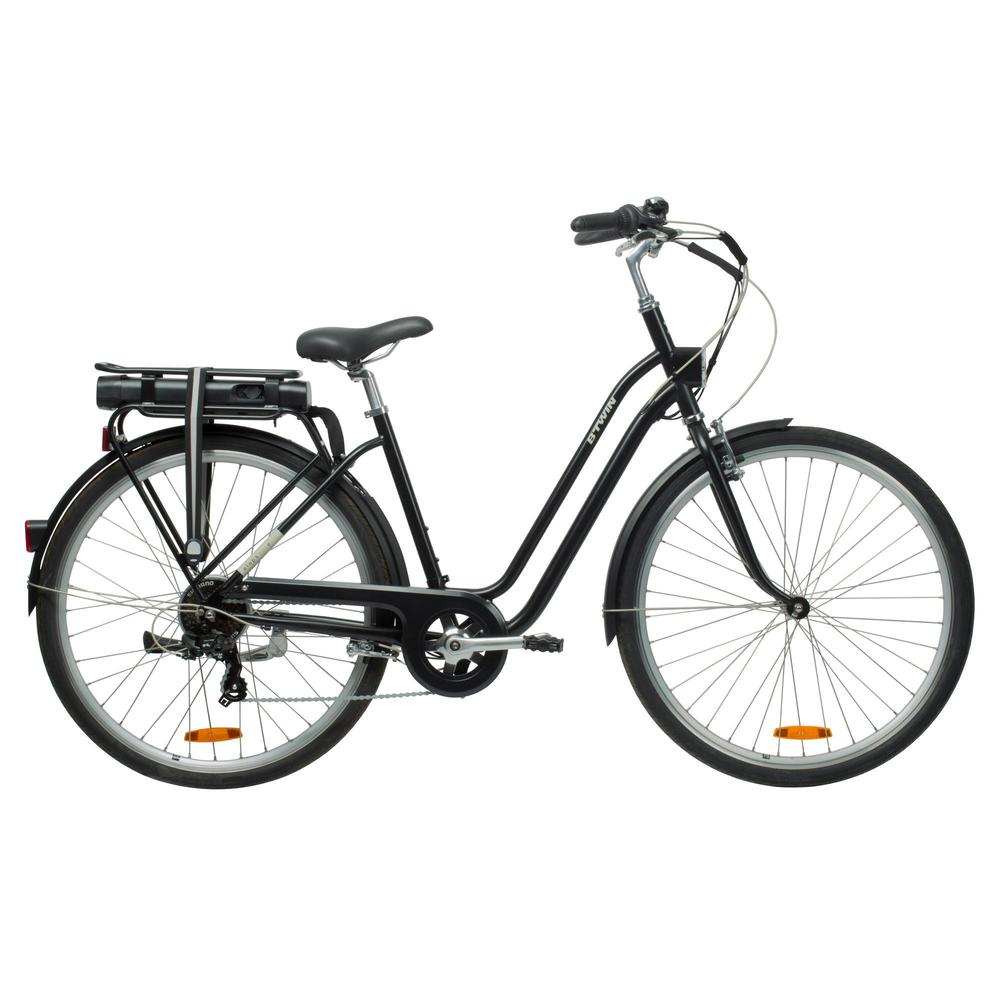UrbanBike: (9, 200, 1000, 801)
